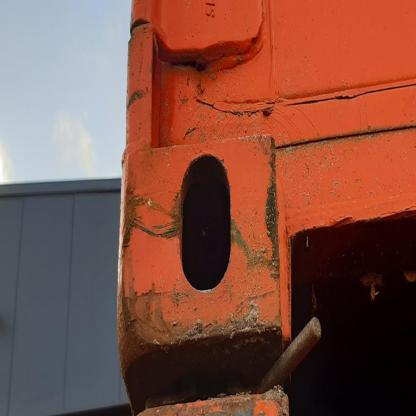CornerCasting: (115, 143, 292, 362)
